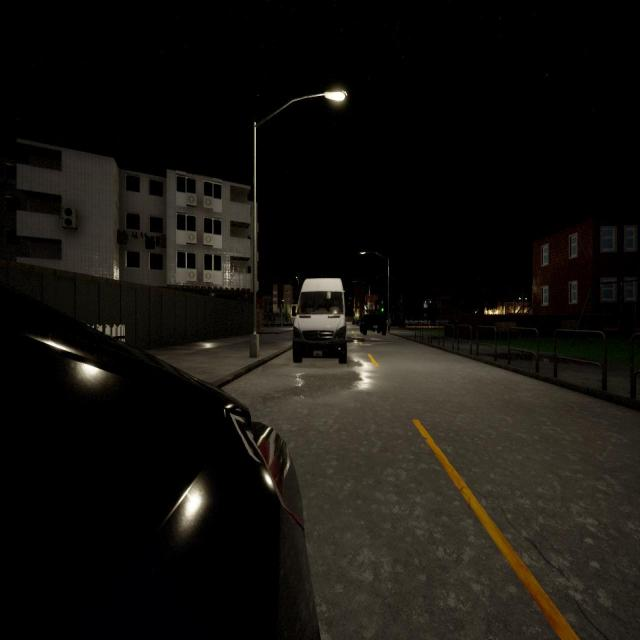Vehicle: (0, 285, 319, 638), (291, 278, 349, 363), (360, 309, 387, 338), (352, 316, 359, 326)
traffic_light: (381, 305, 384, 313)
